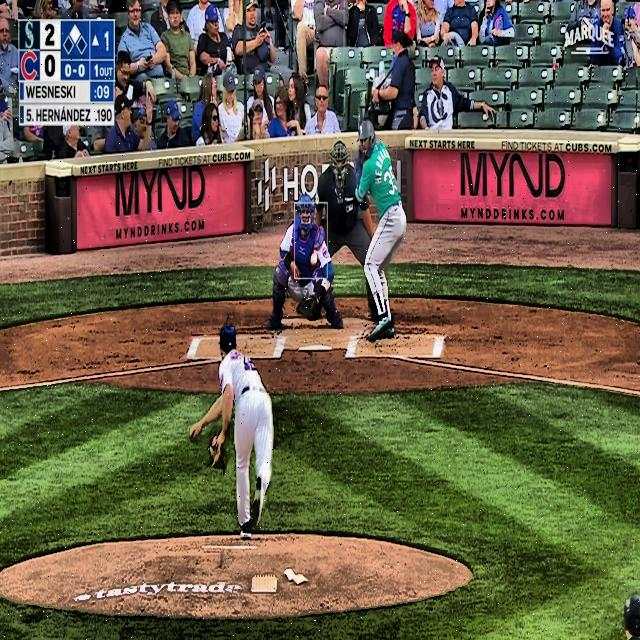baseball: (310, 253, 318, 266)
